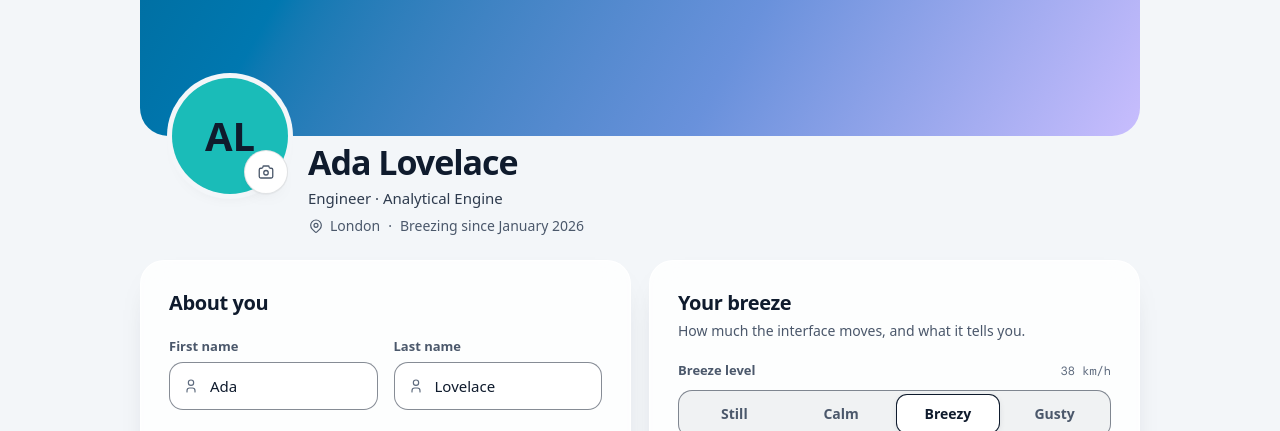
Test: Profile editing › does not touch the session when the save is refused
The image size is (1280, 431).
Replace the text in the field with placeholder "Enter first name" with "Augusta" at (273, 386), box left=169, top=362, right=378, bottom=410
(page scrolled)
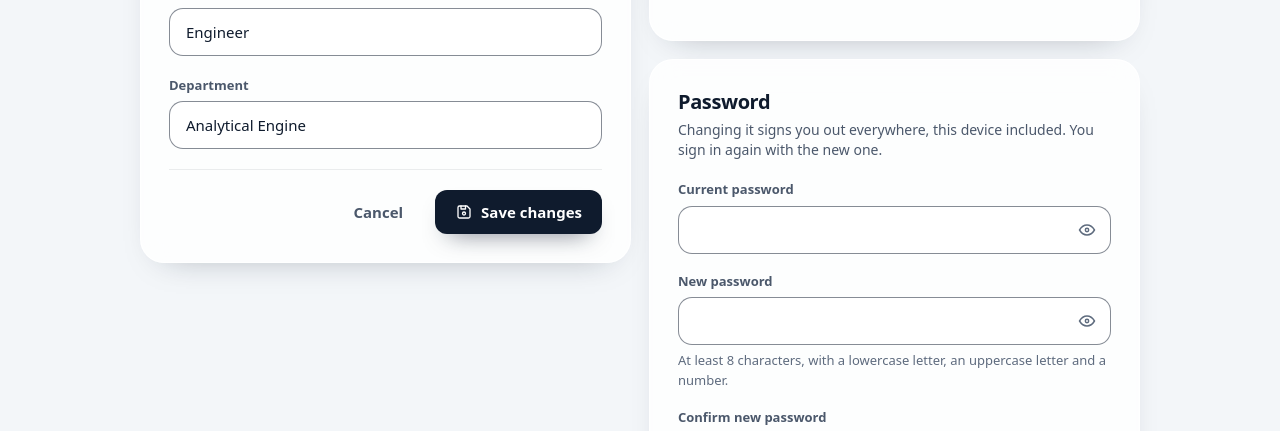
Click the button "Save changes" at (519, 212), box left=435, top=190, right=602, bottom=234
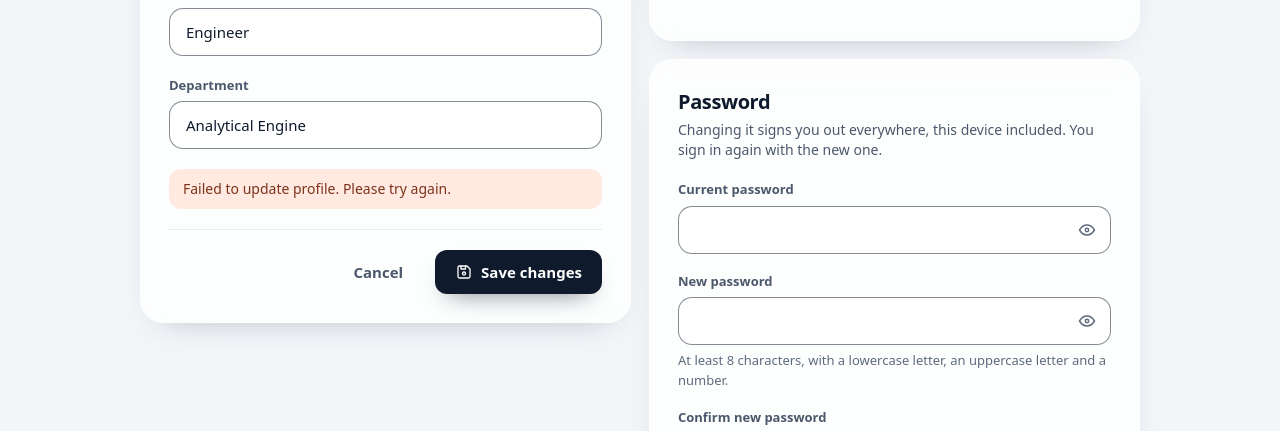
Check: the text "Failed to update profile. Please try again." is shown, box left=169, top=169, right=602, bottom=209
